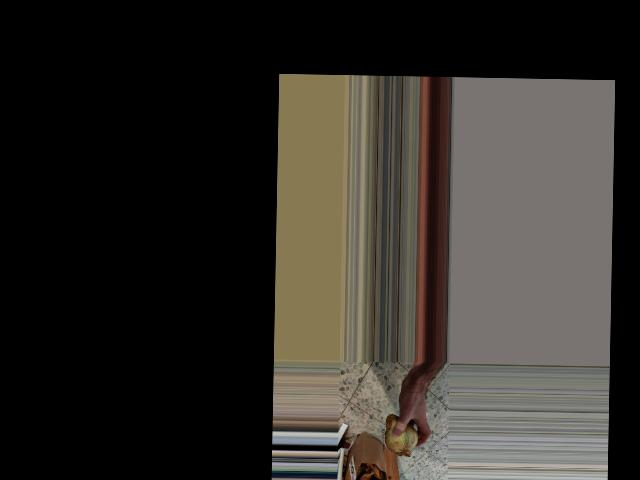onion: (381, 412, 422, 458)
